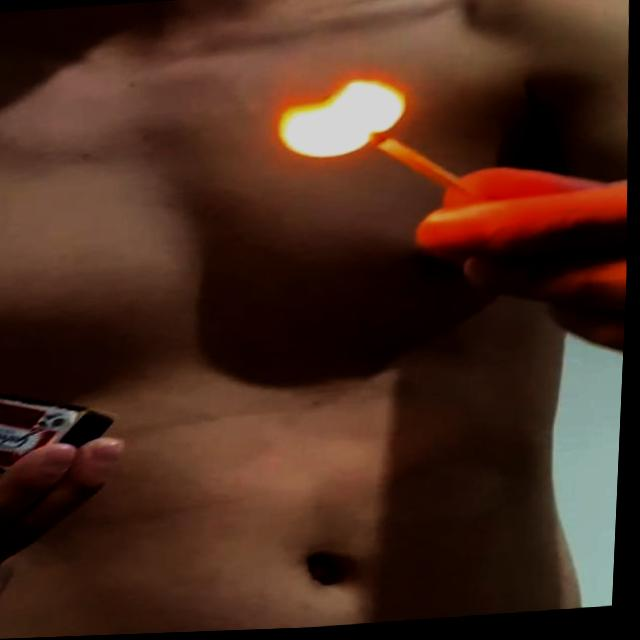helmet: (272, 72, 409, 163)
